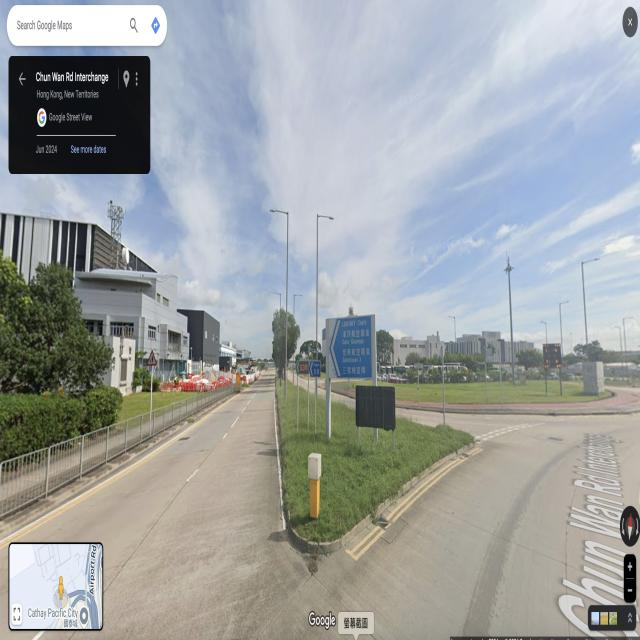Direction-Sign: (329, 315, 372, 379), (309, 361, 321, 378), (146, 349, 157, 365)
